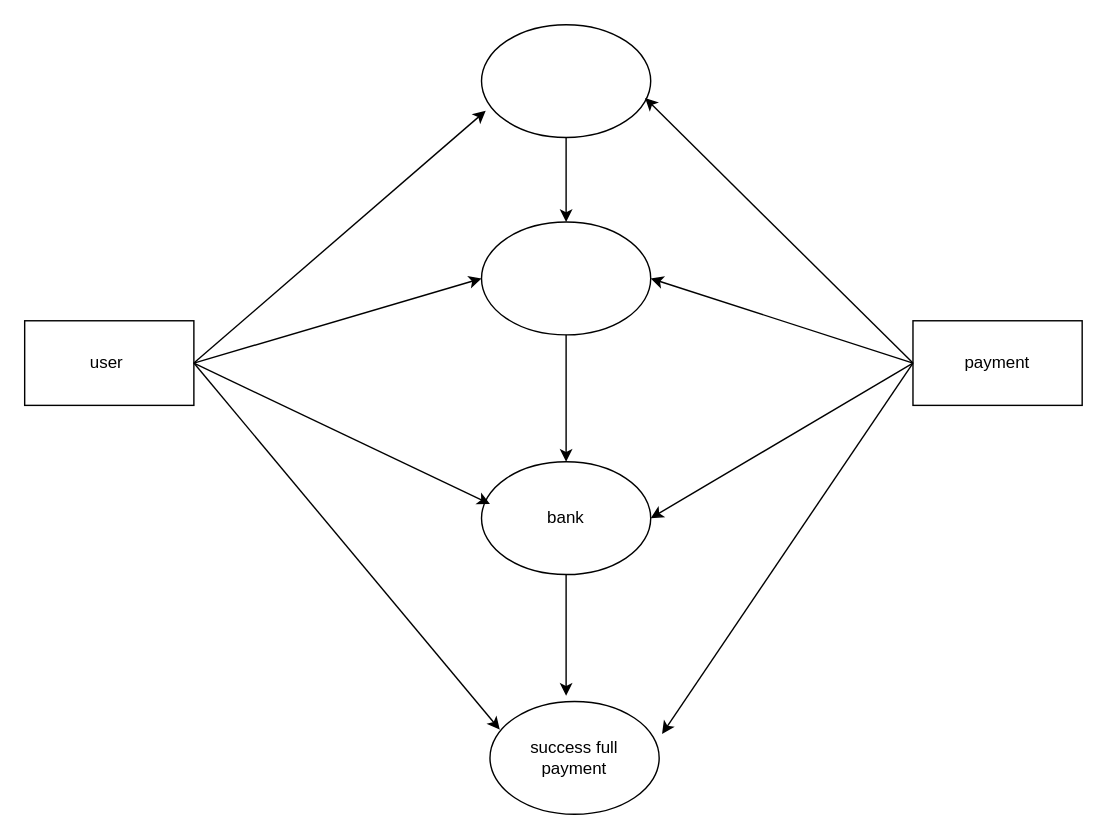
This 1107x839 diagram has some shape labels left out. Here are the shapes that lost their labels. From the top down, the box of each, then its label:
(480, 23, 651, 137): profile
(480, 221, 651, 335): pyament
